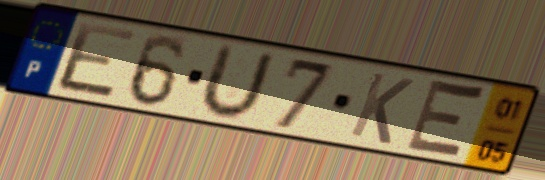6: (127, 33, 189, 110)
7: (275, 54, 335, 132)
E: (400, 75, 490, 165), (53, 19, 141, 102)
K: (345, 69, 418, 148)
U: (192, 41, 279, 123)
